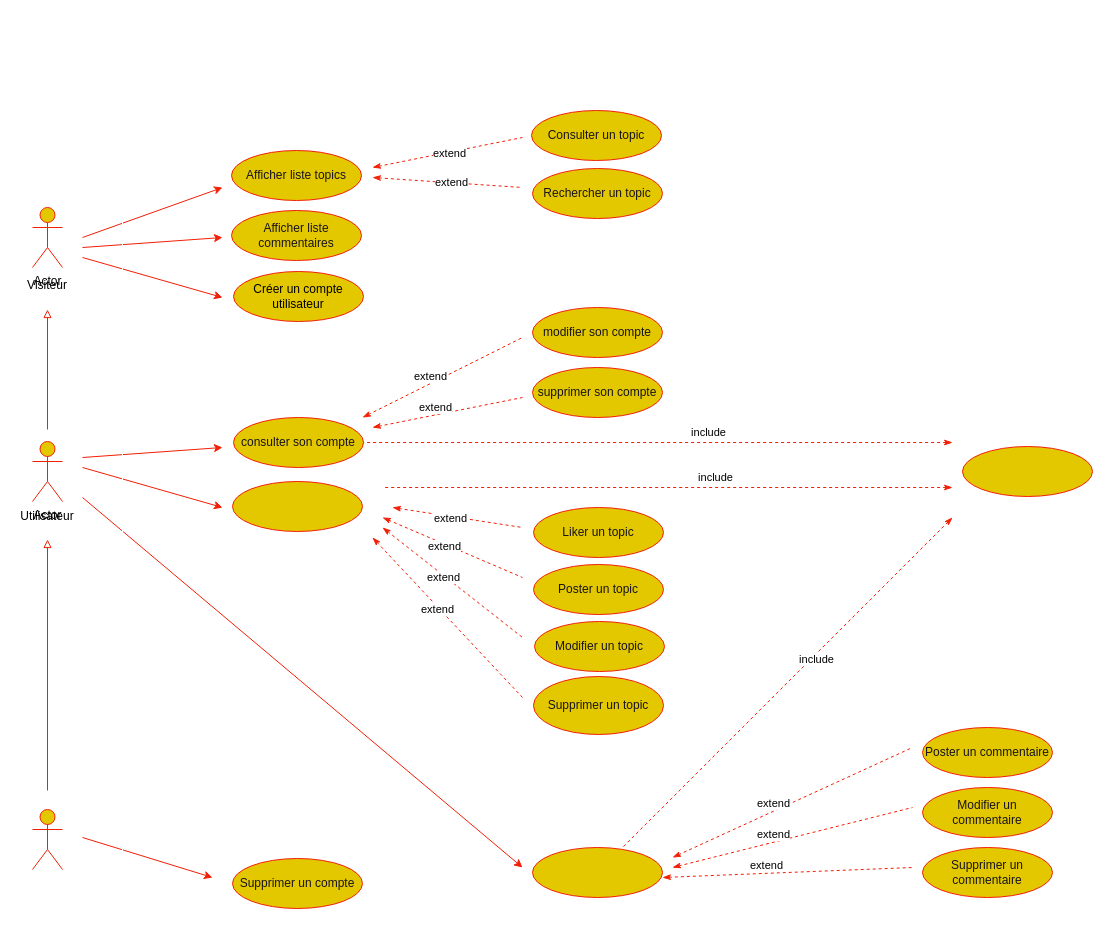
Some shapes in this 1120 by 945 pixel diagram are drawn without their labels. The shapes that lost their labels are listed below. From the top down, each one's centre as x and y in pixels, then its label:
At (x=1027, y=471): "S'authentifier".
At (x=297, y=506): "Ecrire un topic".
At (x=597, y=872): "Ecrire un commentaire".
